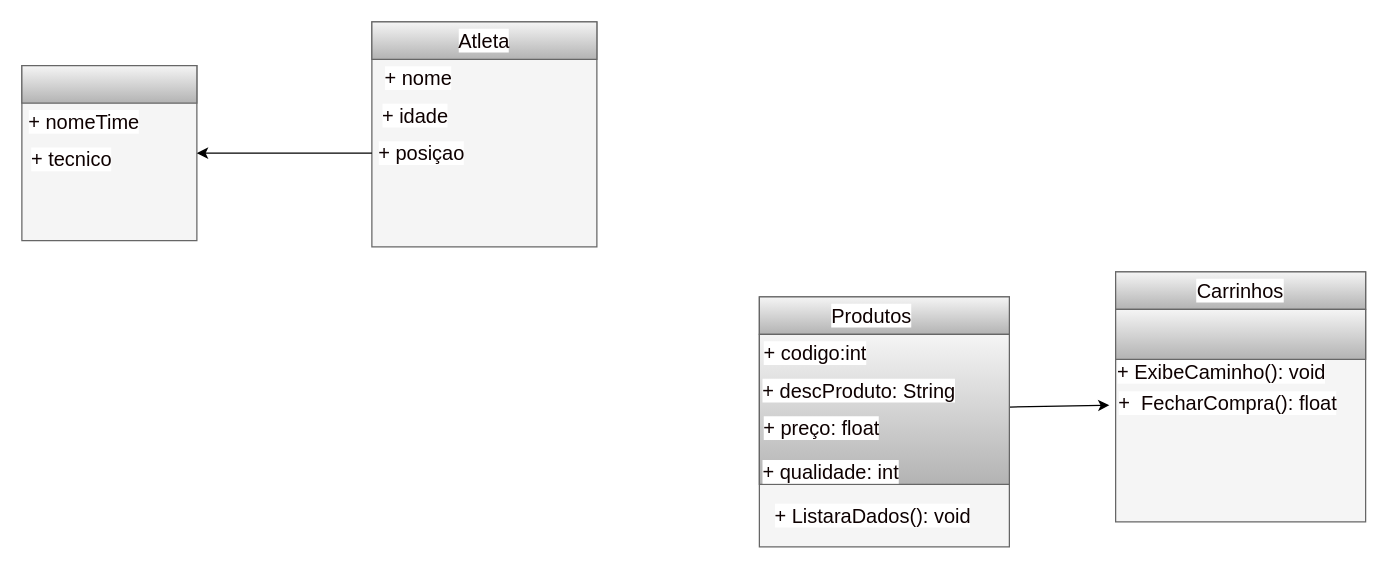
The diagram is 1388 pixels wide and 569 high, and some of its shapes have lost their labels. Here are the shapes that lost their labels. From the top down, the centre of each, then its label:
At (x=109, y=83): "Time".
At (x=1240, y=333): "+ itens[]: Produtos".
